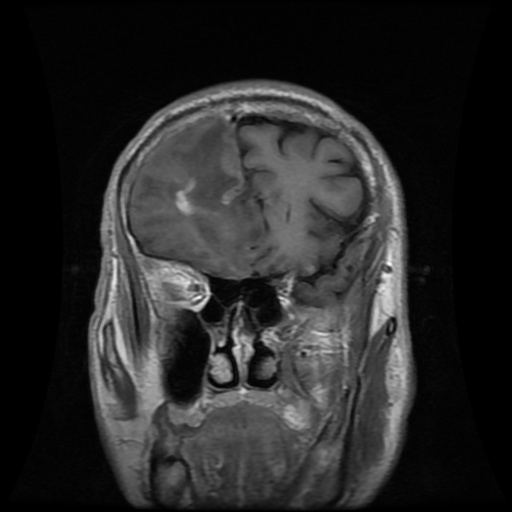glioma: (131, 120, 268, 277)
